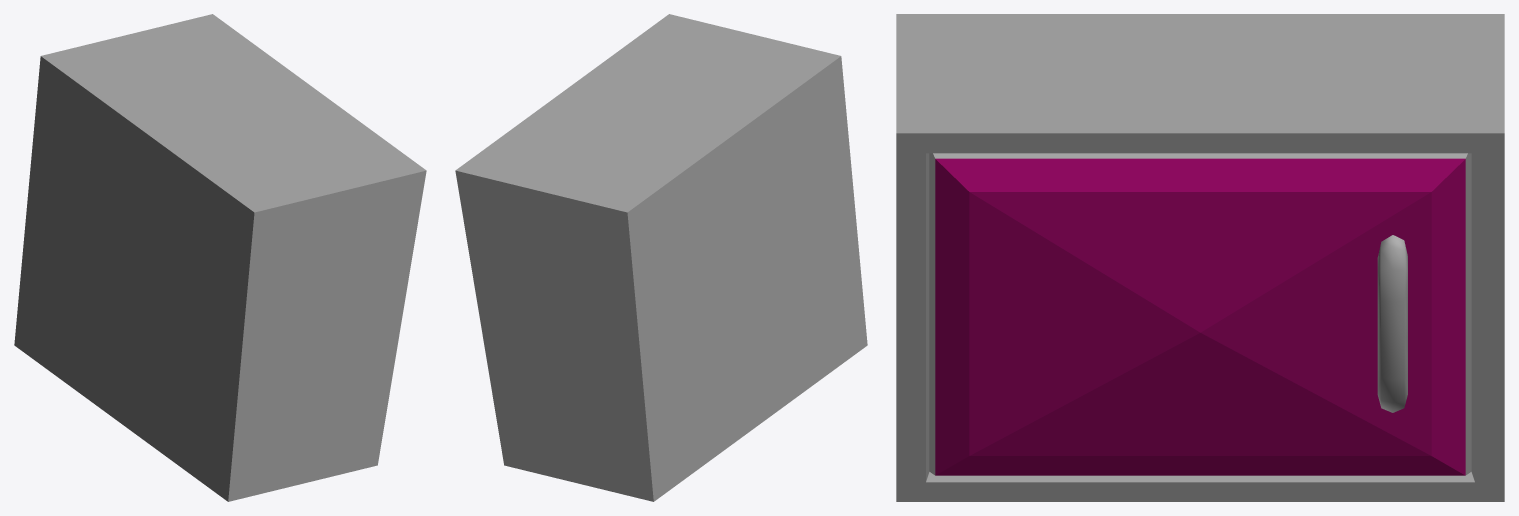
Rendered from cabinet.fbx.
The picture shows the model from 3 angles, left to right: view 1: azimuth 30°, elevation 25°; view 2: azimuth 150°, elevation 25°; view 3: azimuth 270°, elevation 25°; orthographic projection. The views are drawn at different scales.
Visible parts, largest first — view 1: pCube5; view 2: pCube5; view 3: pCube5, handle1.
Boxes of the visible parts, box(x1,y1,x2,y2) form: pCube5: box(14, 14, 426, 501); pCube5: box(455, 14, 867, 501); pCube5: box(896, 14, 1504, 501); handle1: box(1377, 235, 1407, 412).
Size of the model in its own units: 1.54 by 2 by 2.75.
